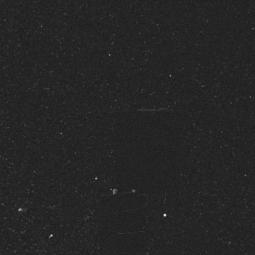proba_3_csc: (119, 99, 187, 234)
